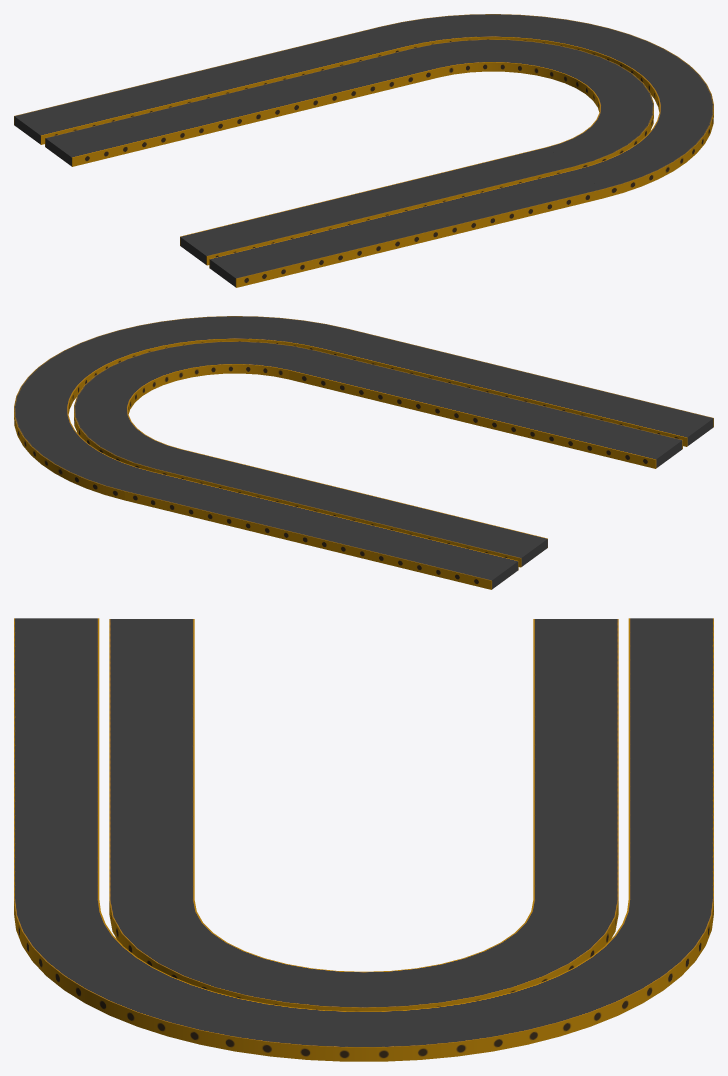
Rendered from tapisRoulantFix_v2.fbx.
The picture shows the model from 3 angles, top to bottom: view 1: azimuth 30°, elevation 25°; view 2: azimuth 150°, elevation 25°; view 3: azimuth 270°, elevation 25°; orthographic projection. The views are drawn at different scales.
Parts seen in each view (by area): view 1: Base_long, Base_courtBCK7, Base_courtBCK5, Base_court, Base_courtBCK4, Base_courtBCK6; view 2: Base_long, Base_courtBCK4, Base_courtBCK6, Base_court, Base_courtBCK7, Base_courtBCK5; view 3: Base_long, Base_court, Base_courtBCK5, Base_courtBCK4, Base_courtBCK6, Base_courtBCK7.
Part boxes in pixels (<box>): Base_long: <box>381,14,713,198</box>; Base_courtBCK7: <box>209,169,602,287</box>; Base_courtBCK5: <box>45,48,438,166</box>; Base_court: <box>412,39,653,169</box>; Base_courtBCK4: <box>14,26,407,144</box>; Base_courtBCK6: <box>180,147,573,265</box>; Base_long: <box>14,316,346,500</box>; Base_courtBCK4: <box>125,471,518,589</box>; Base_courtBCK6: <box>289,350,682,468</box>; Base_court: <box>74,341,315,471</box>; Base_courtBCK7: <box>320,328,713,446</box>; Base_courtBCK5: <box>154,449,547,567</box>; Base_long: <box>14,899,713,1061</box>; Base_court: <box>109,900,618,1011</box>; Base_courtBCK5: <box>533,619,618,900</box>; Base_courtBCK4: <box>628,618,713,899</box>; Base_courtBCK6: <box>109,619,194,900</box>; Base_courtBCK7: <box>14,618,99,899</box>.
Bounding box in the file's own units: 30.5 × 0.4773 × 21.03.
